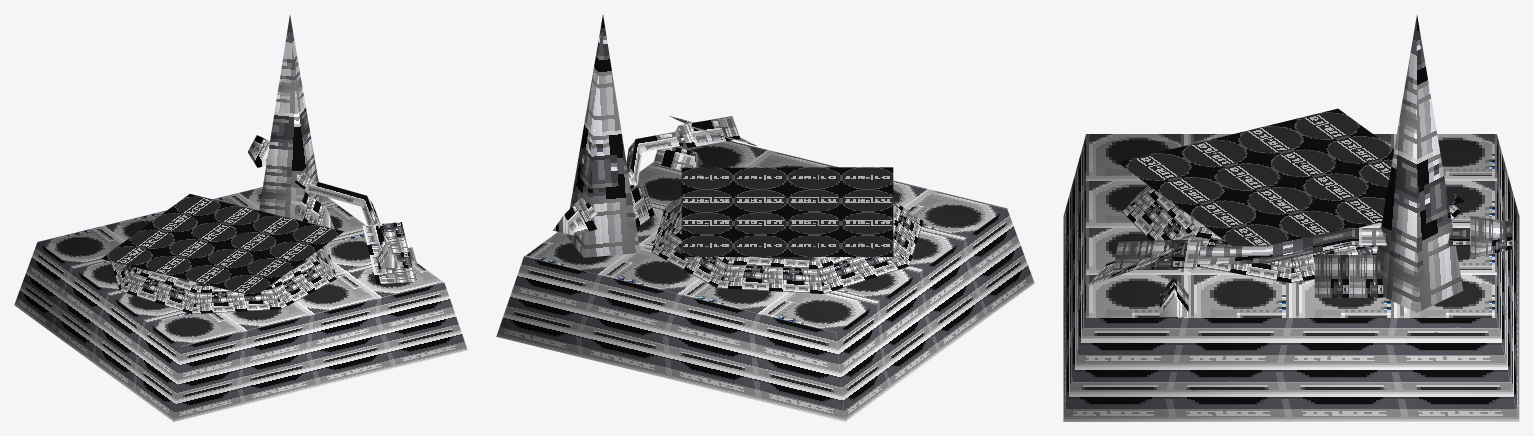
Rendered from 3489IMEL01_06.gltf.
3 views of the same model, side by side, from view 1: azimuth 30°, elevation 25°; view 2: azimuth 150°, elevation 25°; view 3: azimuth 270°, elevation 25° (orthographic). The views are drawn at different scales.
Visible parts, largest first — view 1: 3489IMEL01_06; view 2: 3489IMEL01_06; view 3: 3489IMEL01_06.
Part boxes in pixels (box(x1,y1,x2,y2)): 3489IMEL01_06: box(14, 15, 467, 421); 3489IMEL01_06: box(496, 15, 1034, 421); 3489IMEL01_06: box(1063, 15, 1519, 421).
Bounding box in the file's own units: 0.8545 × 0.7188 × 0.8027.
4 materials, 4 textured.
